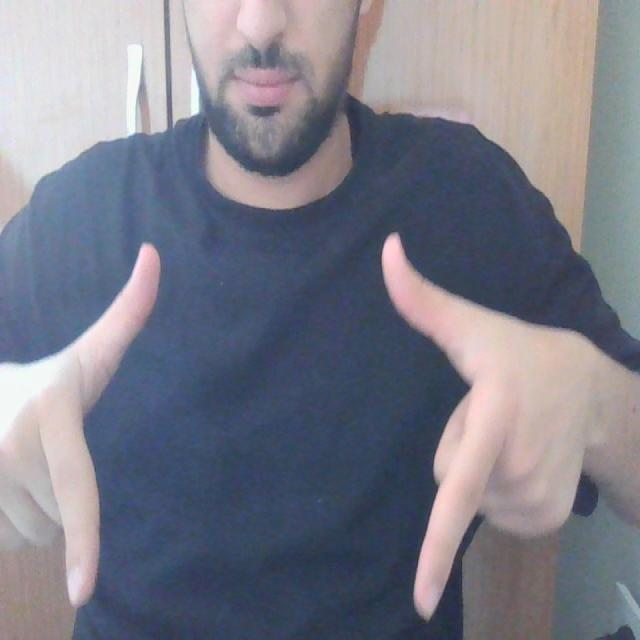Nerede: (24, 229, 522, 625)
